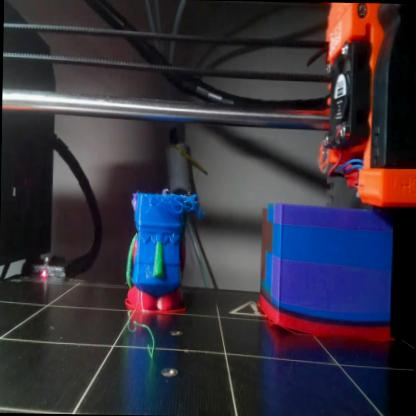fail: (147, 195, 202, 221), (145, 265, 154, 281)
